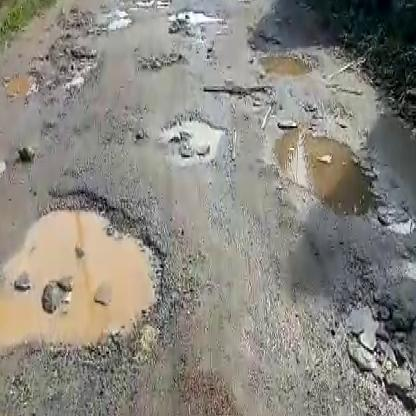pothole: (0, 186, 176, 362), (270, 122, 383, 220), (29, 43, 98, 92), (160, 114, 223, 166), (258, 51, 318, 81), (204, 82, 278, 104), (167, 6, 225, 31), (136, 52, 191, 75), (3, 65, 41, 96), (393, 250, 416, 286)
